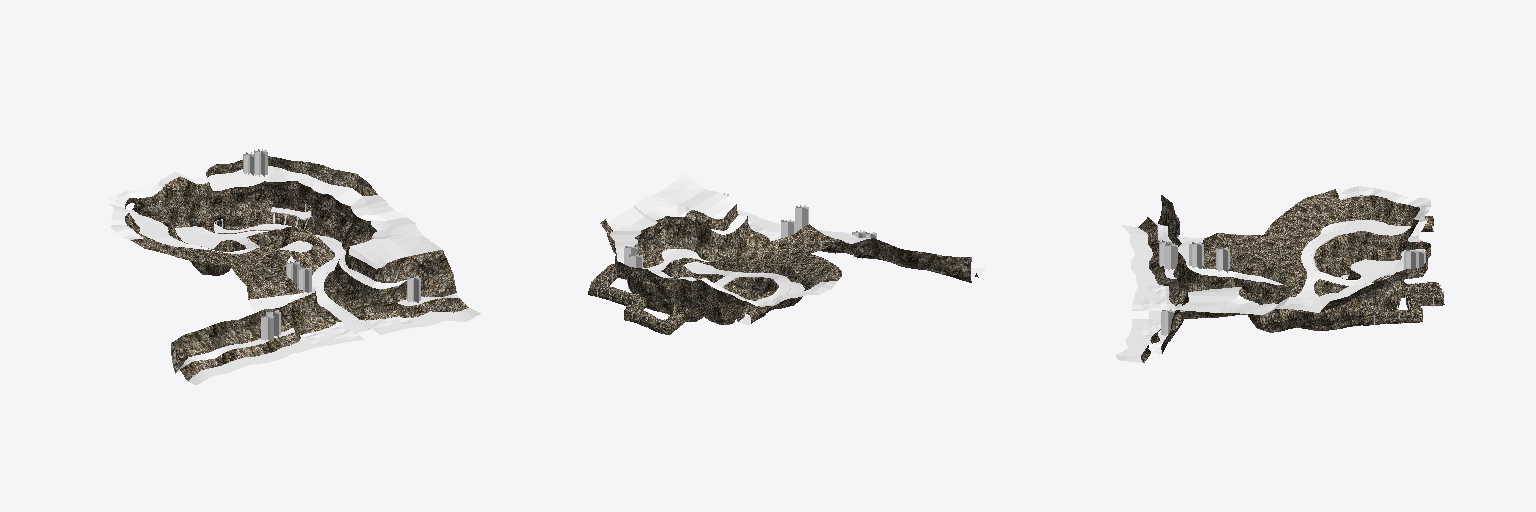
3 views of the same model, side by side, from view 1: azimuth 30°, elevation 25°; view 2: azimuth 150°, elevation 25°; view 3: azimuth 270°, elevation 25° (orthographic).
Parts seen in each view (by area): view 1: Object.274, Object.283, Object.278, Object.273, Object.275; view 2: Object.274, Object.283, Object.279, Object.278; view 3: Object.274, Object.283, Object.278, Object.279, Object.273.
Part boxes in pixels (x1,y1,x2,y2): Object.274: (125,156,468,380); Object.283: (108,166,480,384); Object.278: (243,149,420,341); Object.273: (129,210,368,332); Object.275: (131,210,371,332); Object.274: (600,204,978,324); Object.283: (608,173,986,315); Object.279: (588,264,685,334); Object.278: (624,193,876,268); Object.274: (1138,189,1433,362); Object.283: (1116,186,1430,363); Object.278: (1159,240,1425,335); Object.279: (1359,282,1444,324); Object.273: (1149,227,1433,316).
Size of the model in its own units: 185 by 48.28 by 182.
Materials: 7 (1 with a texture image).